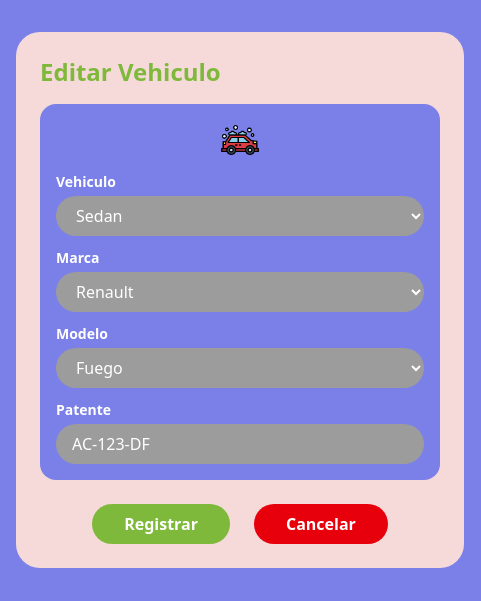
Test: EditarVehiculoPage › con patente inválida advierte y no guarda
Expected: the heading "Editar Vehiculo" is shown, [40, 55, 221, 88]
Replace the text in the field labelled "Patente" with "ab254m" at (240, 444), box [56, 424, 424, 464]
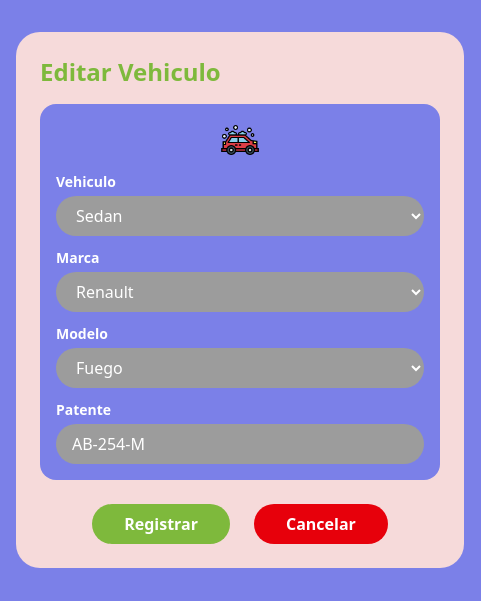
Click the button "Registrar" at (161, 524), box [92, 504, 230, 544]
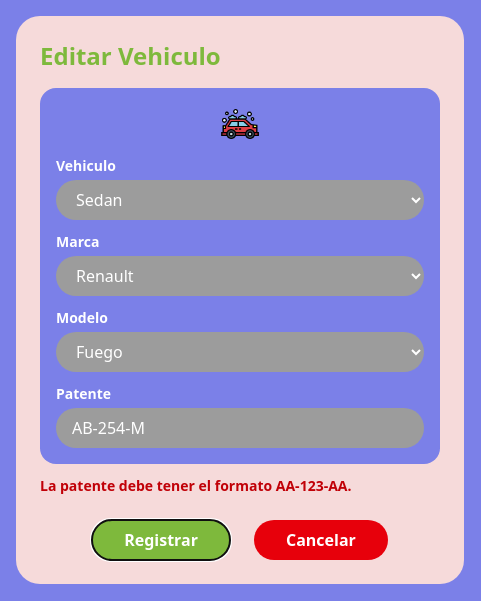
Now the message reads "La patente debe tener el formato AA-123-AA.", box [40, 476, 352, 495]
